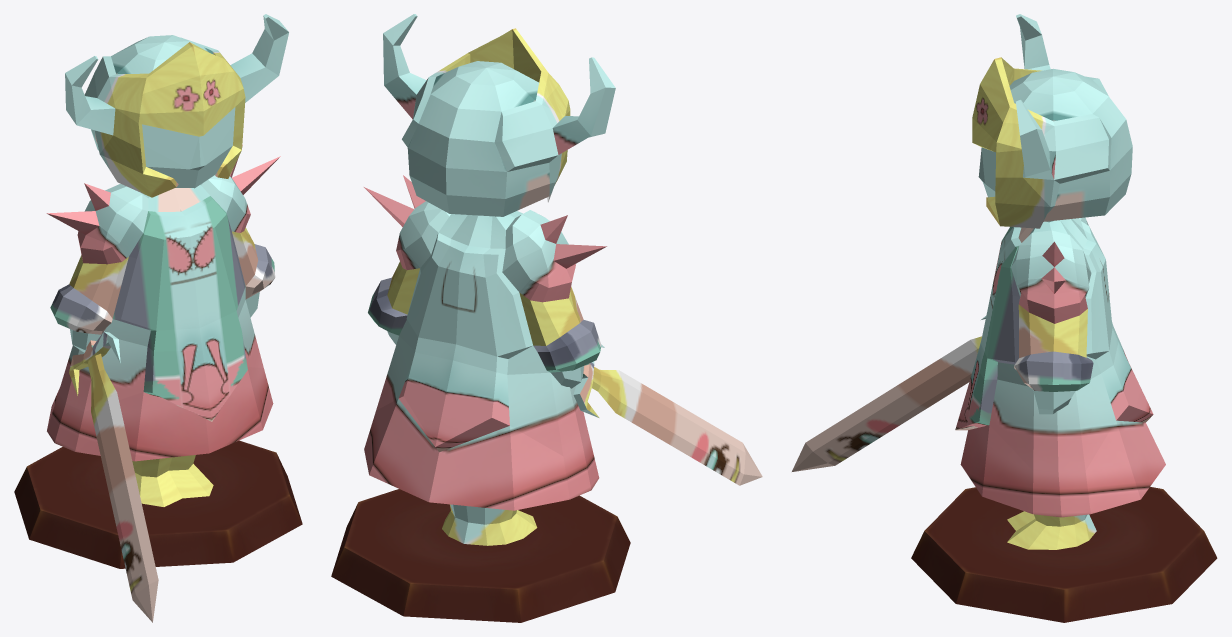
Rendered from Asset_Pawn_Nana.fbx.
3 views of the same model, side by side, from view 1: azimuth 30°, elevation 25°; view 2: azimuth 150°, elevation 25°; view 3: azimuth 270°, elevation 25° (orthographic). The views are drawn at different scales.
Visible parts, largest first — view 1: nana_body, Nana_stand, nana_sword; view 2: nana_body, Nana_stand, nana_sword; view 3: nana_body, Nana_stand, nana_sword.
Part boxes in pixels (bbox=[...]): nana_body: bbox=[46, 14, 288, 506]; Nana_stand: bbox=[14, 440, 302, 568]; nana_sword: bbox=[69, 331, 158, 622]; nana_body: bbox=[364, 14, 615, 545]; Nana_stand: bbox=[331, 489, 630, 622]; nana_sword: bbox=[573, 344, 762, 485]; nana_body: bbox=[955, 14, 1165, 549]; Nana_stand: bbox=[911, 487, 1217, 622]; nana_sword: bbox=[792, 316, 986, 471].
Size of the model in its own units: 27.23 by 47.48 by 36.55.
Materials: 2 (2 with a texture image).
